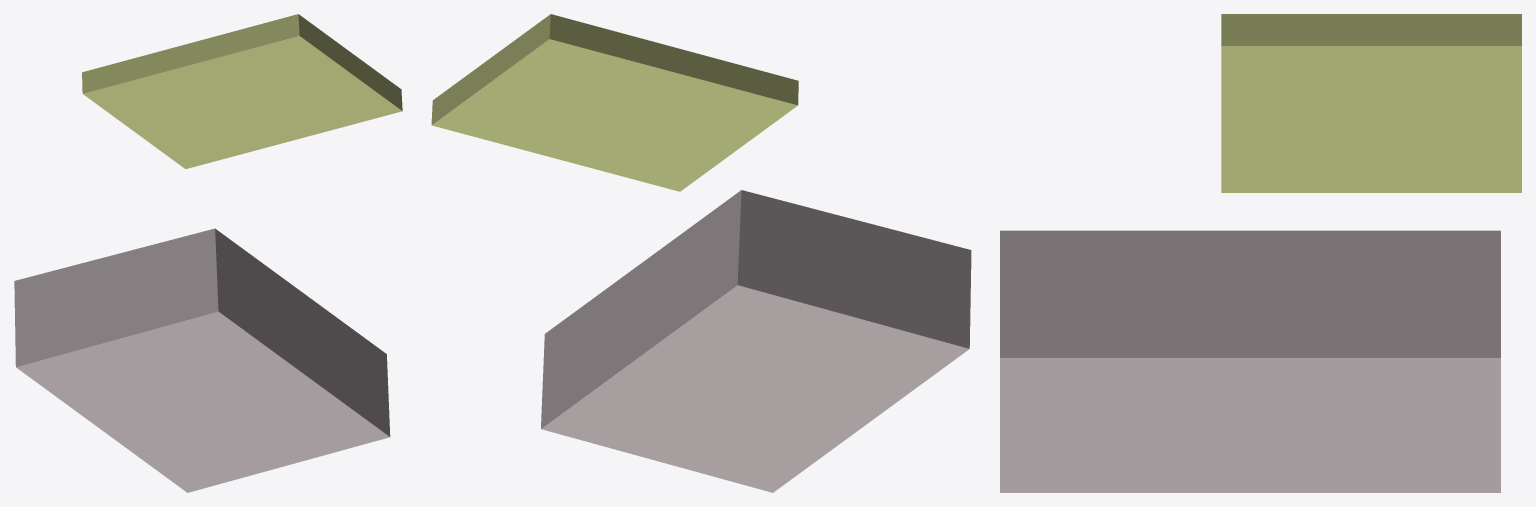
3 views of the same model, side by side, from view 1: azimuth 30°, elevation 25°; view 2: azimuth 150°, elevation 25°; view 3: azimuth 270°, elevation 25° (orthographic). The views are drawn at different scales.
Parts seen in each view (by area): view 1: 0_2_1_0_0_0_0_0_0_1_1; view 2: 0_2_1_0_0_0_0_0_0_1_1; view 3: 0_2_1_0_0_0_0_0_0_1_1.
Part boxes in pixels (x1,y1,x2,y2): 0_2_1_0_0_0_0_0_0_1_1: (14,14,402,492); 0_2_1_0_0_0_0_0_0_1_1: (431,14,971,492); 0_2_1_0_0_0_0_0_0_1_1: (1000,14,1521,492).
Bounding box in the file's own units: 14.75 × 13.36 × 15.63.
